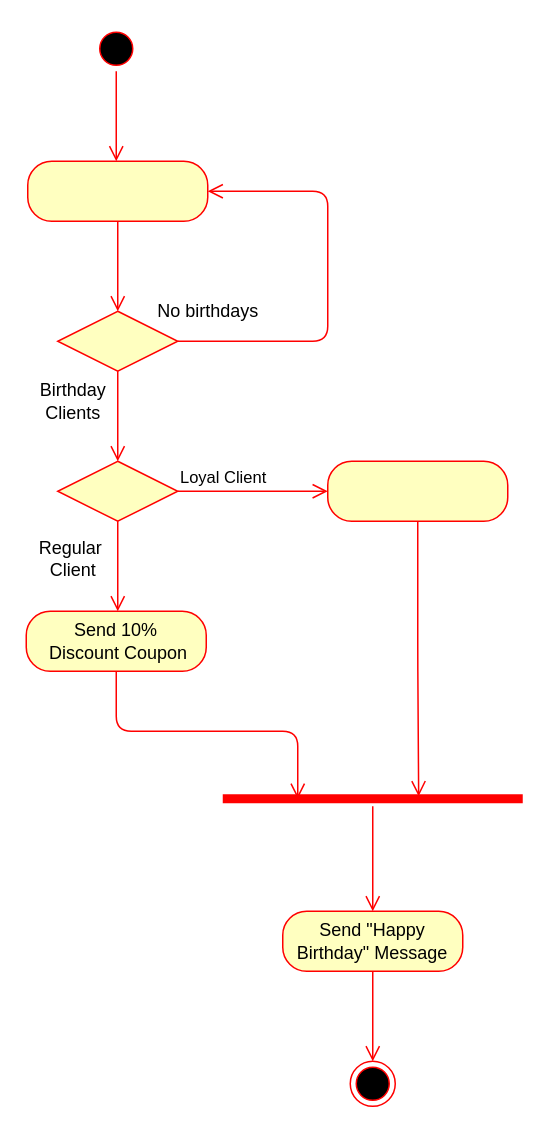
Some shapes in this 554 by 1133 pixel diagram are drawn without their labels. The shapes that lost their labels are listed below. From the top down, each one's centre as x and y in pixels, then its label:
At (117,190): "Go to Dashboard/ Client Birthdays".
At (417,490): "Send 30% Discount Coupon".
